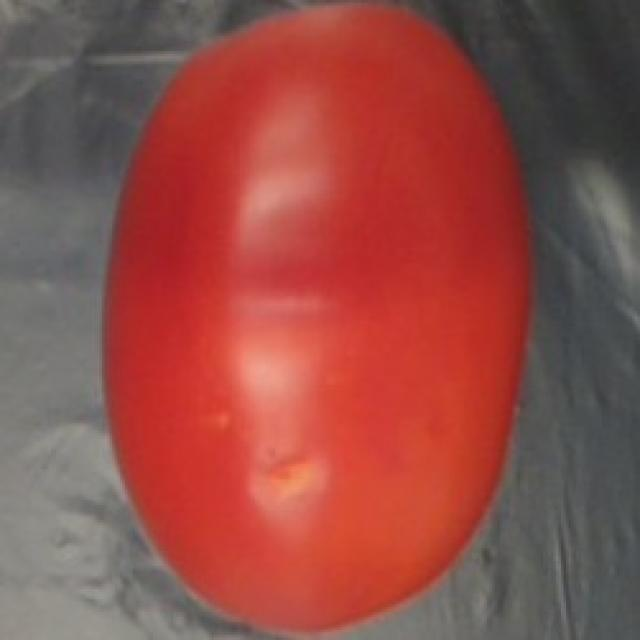ripe tomato: (88, 3, 548, 638)
